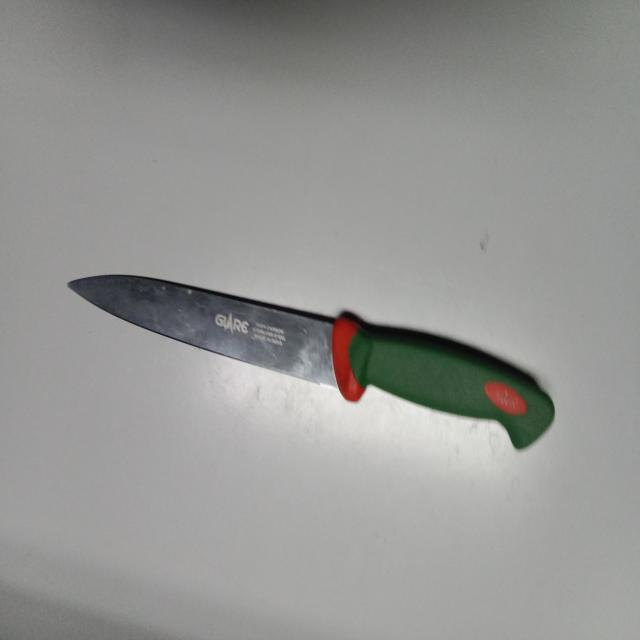Knife: (68, 275, 555, 449)
